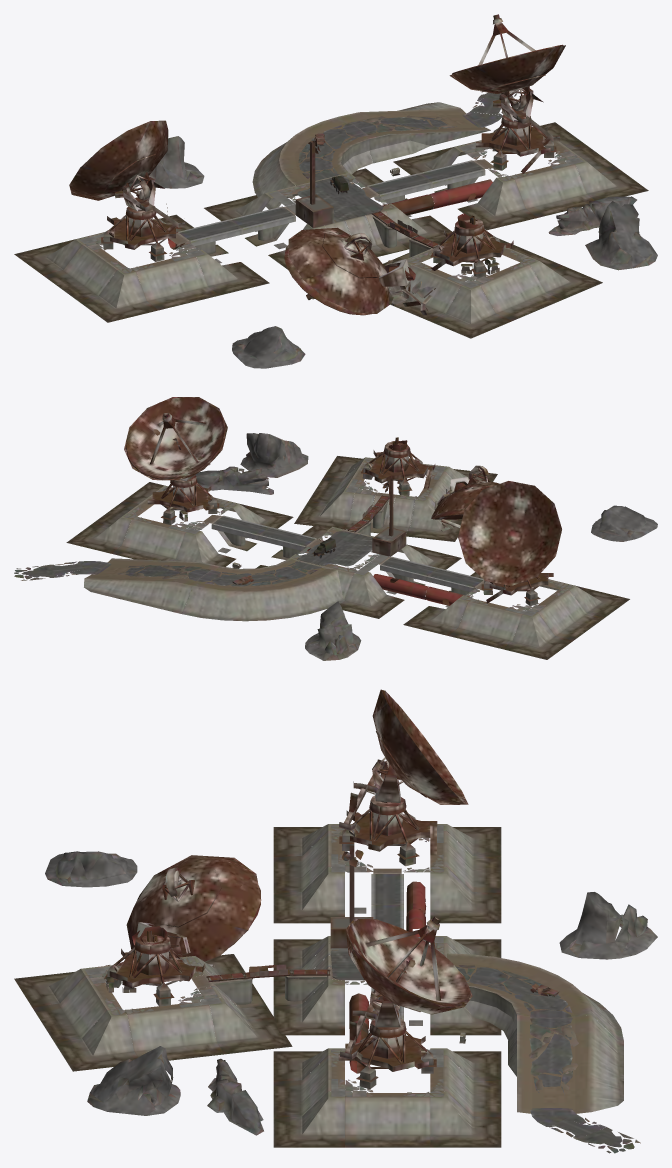
The model's file is satellite_dish.glb.
3 renders of one model, top to bottom at view 1: azimuth 30°, elevation 25°; view 2: azimuth 150°, elevation 25°; view 3: azimuth 270°, elevation 25°, orthographic. The views are drawn at different scales.
Parts seen in each view (by area): view 1: satellite_dish_hlod; view 2: satellite_dish_hlod; view 3: satellite_dish_hlod.
Part boxes in pixels (bbox=[...]): satellite_dish_hlod: bbox=[14, 14, 657, 368]; satellite_dish_hlod: bbox=[14, 397, 657, 660]; satellite_dish_hlod: bbox=[14, 689, 657, 1153].
Size of the model in its own units: 163 by 44.74 by 136.
1 material, 1 textured.
